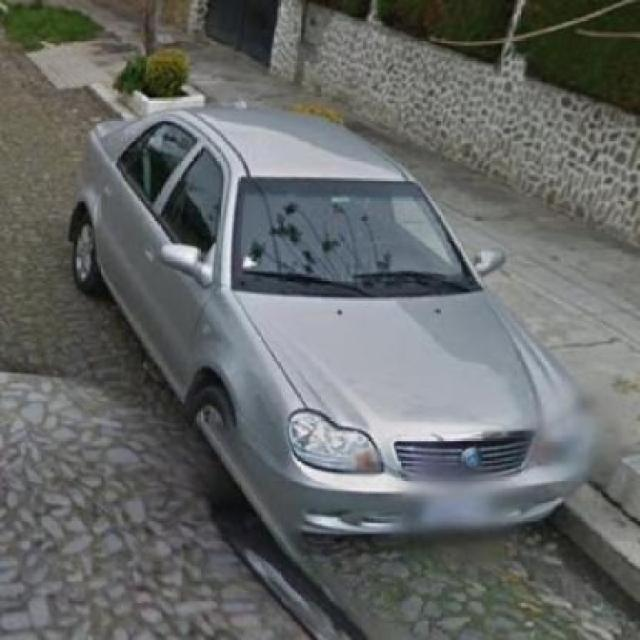car: (82, 90, 602, 576)
